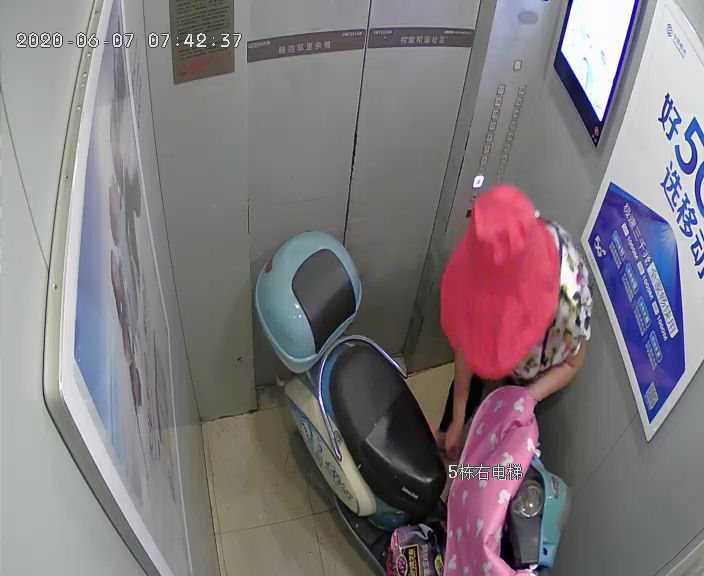Electric-bicycle: (252, 231, 572, 576)
